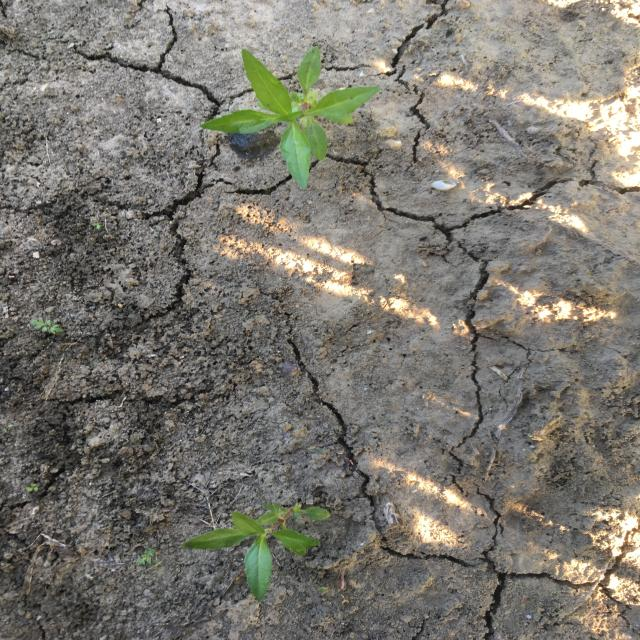Eclipta: (198, 45, 382, 191), (180, 501, 332, 604)
